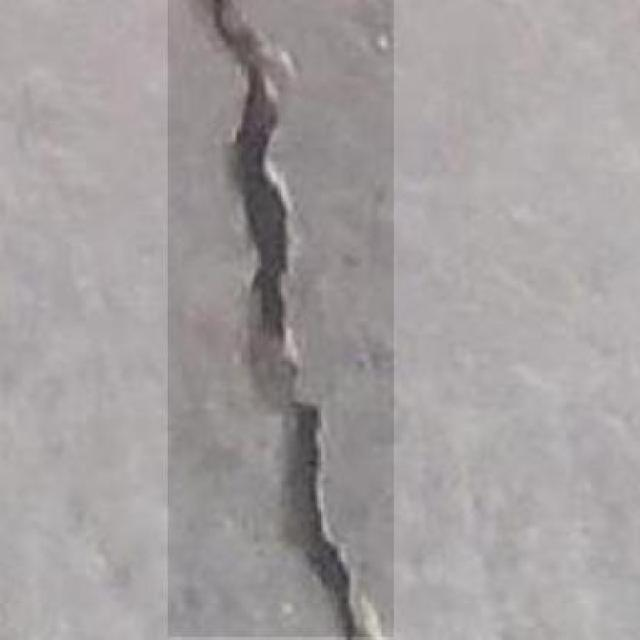Crack: (170, 0, 395, 637)
